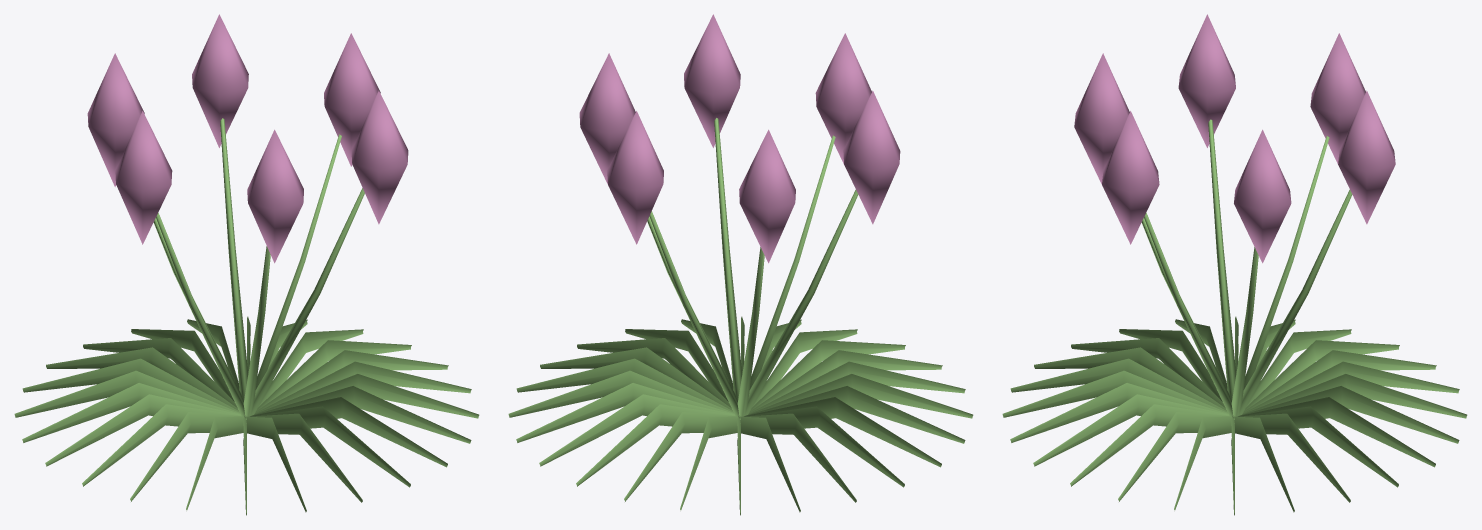
Rendered from grass_needle_burr.glb.
3 renders of one model, left to right at view 1: azimuth 30°, elevation 25°; view 2: azimuth 150°, elevation 25°; view 3: azimuth 270°, elevation 25°, orthographic.
Visible parts, largest first — view 1: Flora_Needle_Burr; view 2: Flora_Needle_Burr; view 3: Flora_Needle_Burr.
Boxes of the visible parts, x1=… form: Flora_Needle_Burr: x1=14, y1=14, x2=479, y2=515; Flora_Needle_Burr: x1=508, y1=14, x2=973, y2=515; Flora_Needle_Burr: x1=1002, y1=14, x2=1467, y2=515.
Bounding box in the file's own units: 0.5015 × 0.4283 × 0.5015.
